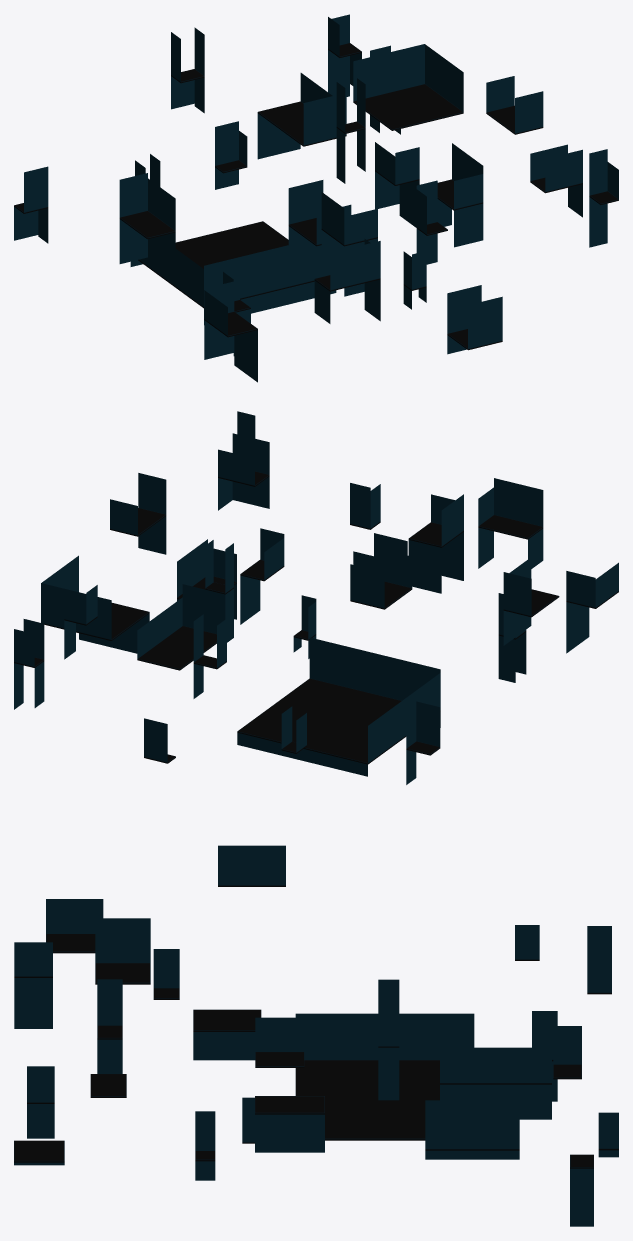
Rendered from far_floor_b.glb.
The picture shows the model from 3 angles, top to bottom: view 1: azimuth 30°, elevation 25°; view 2: azimuth 150°, elevation 25°; view 3: azimuth 270°, elevation 25°; orthographic projection. The views are drawn at different scales.
Parts seen in each view (by area): view 1: far_floor_skirt, tiles; view 2: far_floor_skirt, tiles; view 3: far_floor_skirt, tiles.
Part boxes in pixels (left/top/right/bottom): far_floor_skirt: left=14, top=14, right=618, bottom=382; tiles: left=14, top=43, right=618, bottom=350; far_floor_skirt: left=14, top=411, right=618, bottom=784; tiles: left=14, top=471, right=618, bottom=764; far_floor_skirt: left=14, top=845, right=618, bottom=1226; tiles: left=14, top=885, right=618, bottom=1168.
Bounding box in the file's own units: 9.67 × 3.92 × 10.07.
